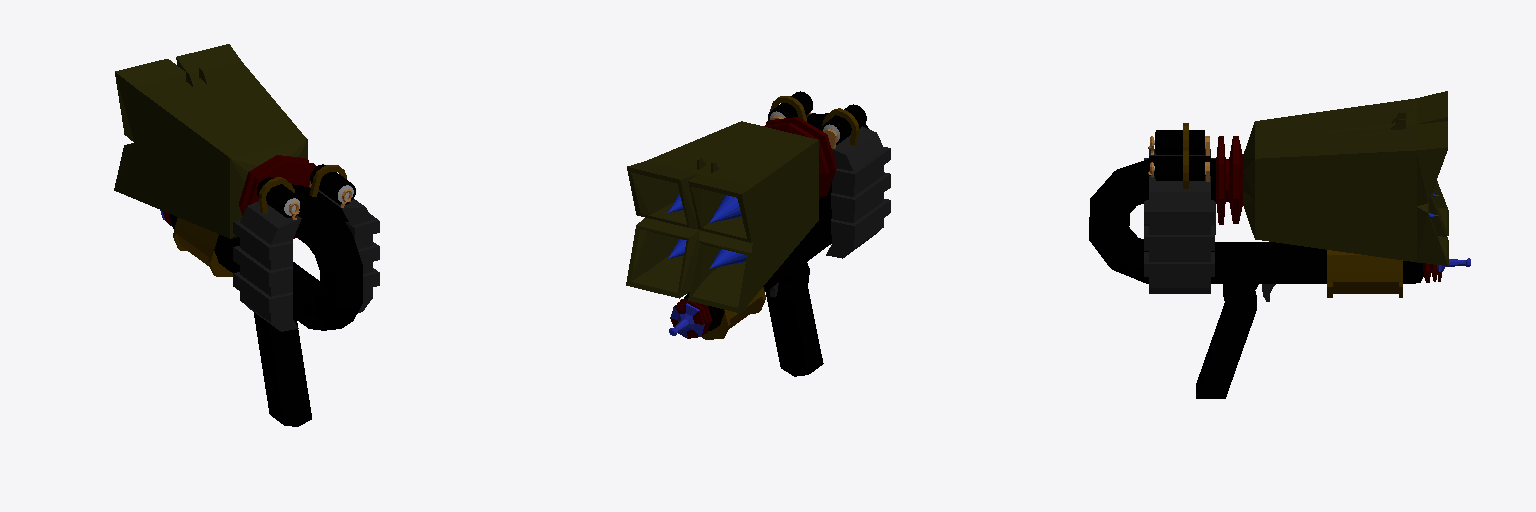
Rendered from electricgun.obj.
3 renders of one model, left to right at view 1: azimuth 30°, elevation 25°; view 2: azimuth 150°, elevation 25°; view 3: azimuth 270°, elevation 25°, orthographic.
Parts seen in each view (by area): view 1: Cube; view 2: Cube; view 3: Cube.
Part boxes in pixels (x1,y1,x2,y2): Cube: (114, 44, 379, 426); Cube: (626, 91, 890, 376); Cube: (1089, 91, 1470, 398).
Size of the model in its own units: 3.26 by 7.57 by 9.35.